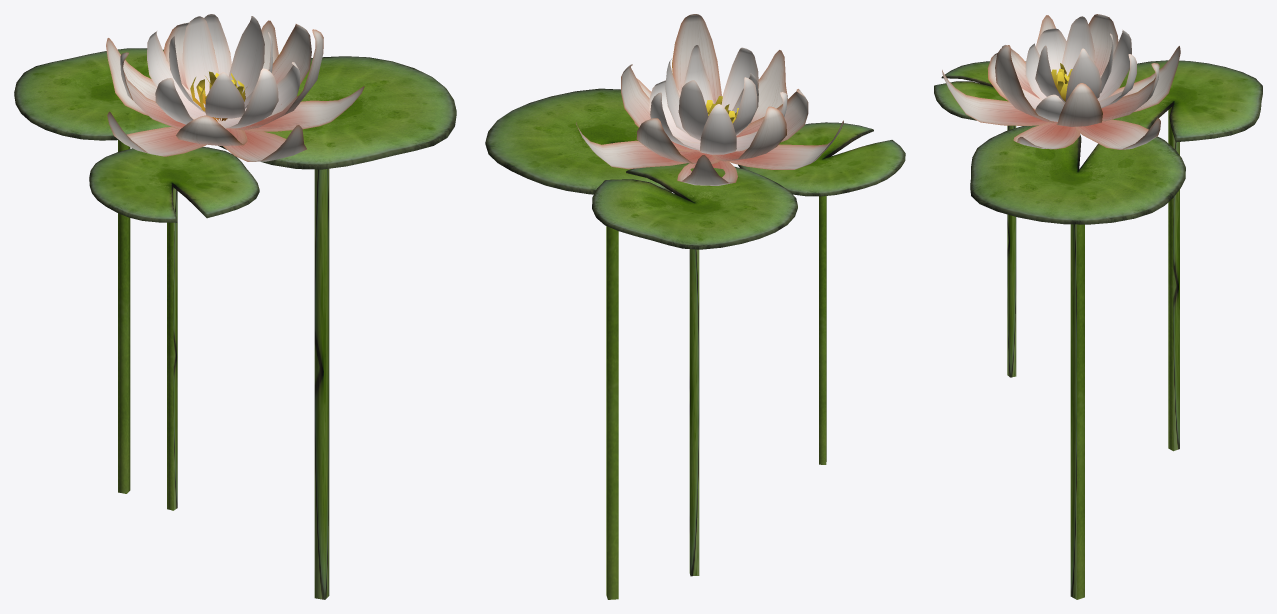
The model's file is Lily_Flower.glb.
The picture shows the model from 3 angles, left to right: view 1: azimuth 30°, elevation 25°; view 2: azimuth 150°, elevation 25°; view 3: azimuth 270°, elevation 25°; orthographic projection. The views are drawn at different scales.
Visible parts, largest first — view 1: Lily_Flower.001; view 2: Lily_Flower.001; view 3: Lily_Flower.001.
Part boxes in pixels (box(x1,y1,x2,y2)): Lily_Flower.001: box(14, 14, 456, 599); Lily_Flower.001: box(485, 14, 905, 599); Lily_Flower.001: box(934, 14, 1262, 599).
Size of the model in its own units: 2.02 by 3.11 by 1.75.
Materials: 2 (2 with a texture image).
